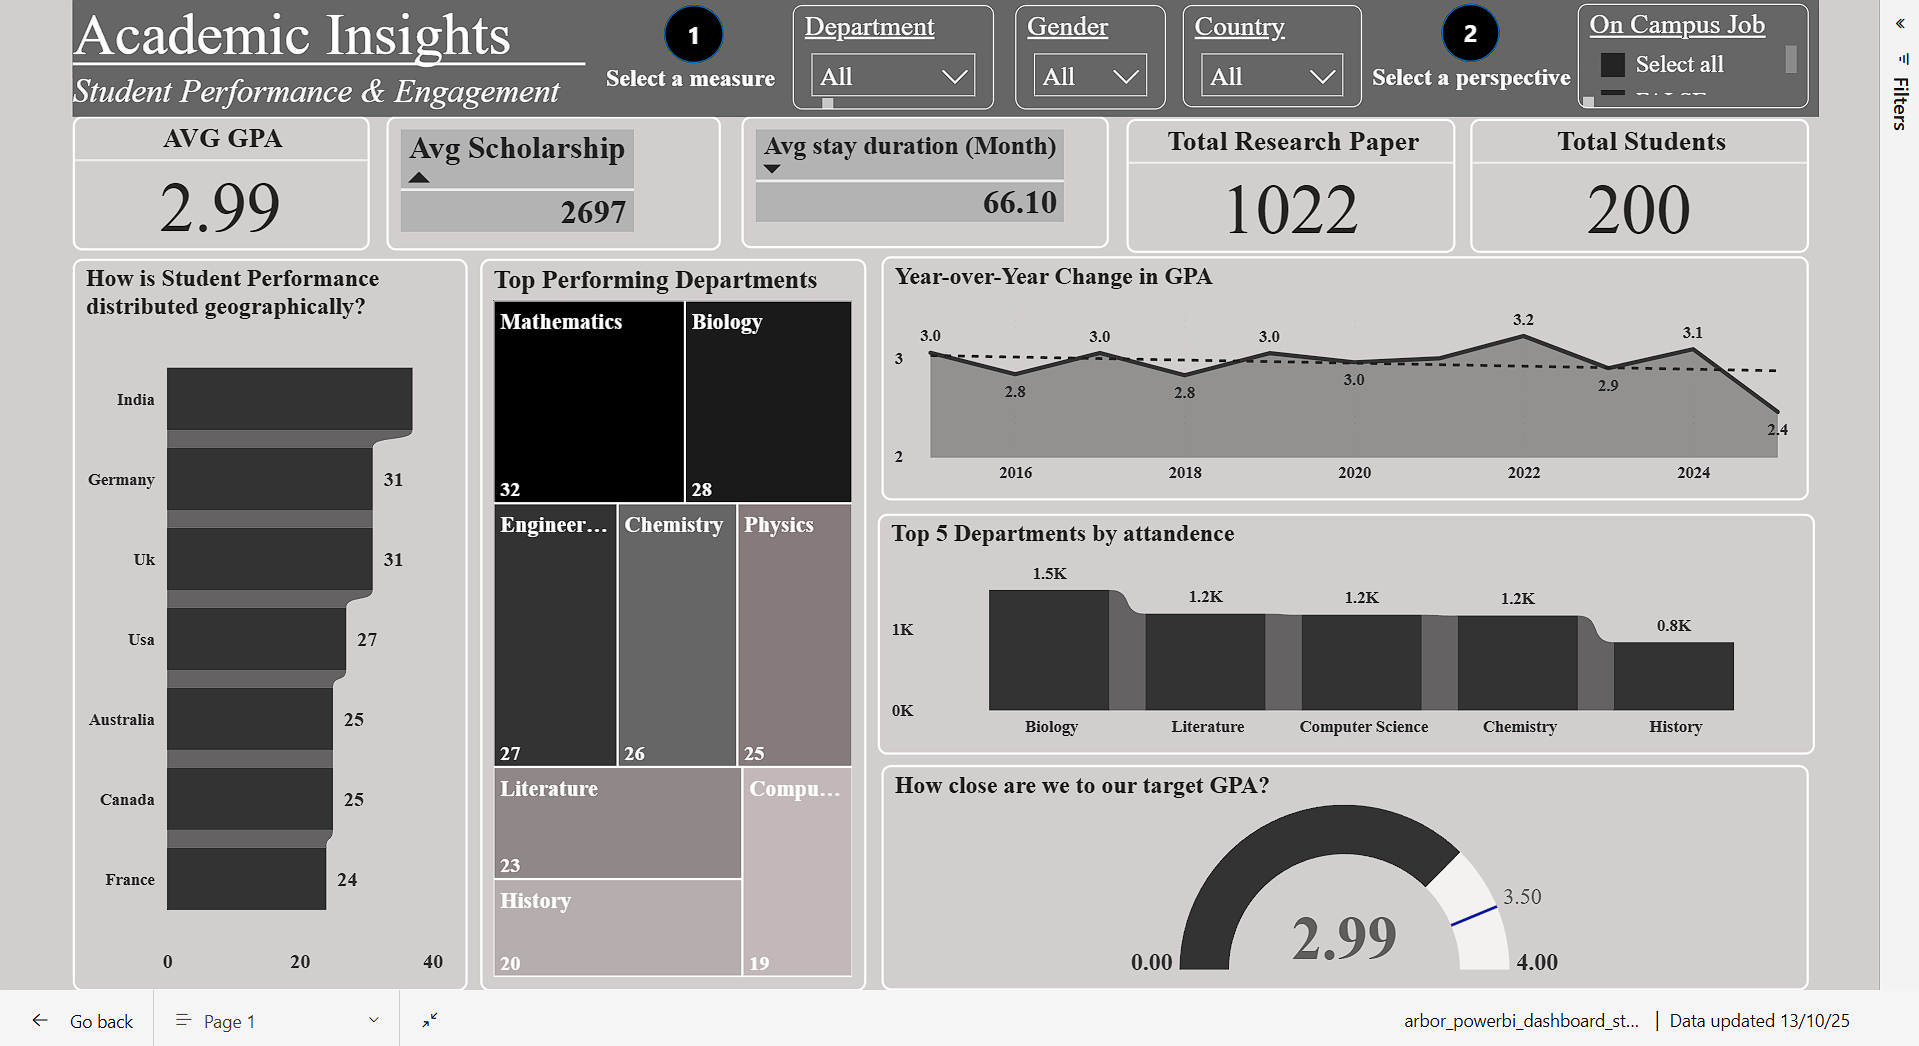

What the dashboard file says about the page in this screenshot:
{"tool":"powerbi","page":{"name":"Student Performance Dashboard","canvas":[1280,720],"ordinal":0},"visuals":[{"type":"card","title":"Total Students","fields":{"Values":["students_data_(1)(1).Total Students"]},"box":[1026.8,86.3,246.3,97.4],"z":0},{"type":"card","title":"AVG GPA","fields":{"Values":["students_data_(1)(1).Avg GPA"]},"box":[9.7,84.9,215.7,97.4],"z":1000},{"type":"card","title":"Total Research Paper","fields":{"Values":["students_data_(1)(1).Total Research Papers"]},"box":[776.3,86.3,239.3,97.4],"z":2000},{"type":"tableEx","title":"Avg Scholarship","fields":{"Values":["students_data_(1)(1).Avg Scholarship"]},"box":[237.9,84.9,243.5,97.4],"z":3000},{"type":"tableEx","fields":{"Values":["students_data_(1)(1).Avg stay duration"]},"box":[496.7,84.9,267.1,96],"z":4000},{"type":"shape","box":[10.1,15.9,353.5,79.4],"z":5000},{"type":"shape","title":"Academic Insights","box":[10,0,1270.1,84.6],"z":6000},{"type":"shape","box":[9.7,8.3,372.9,76.5],"z":7000},{"type":"shape","title":"1","box":[440.4,3.7,43.5,42.3],"z":8000},{"type":"shape","title":"1","box":[1005.1,2.5,42.3,42.3],"z":9000},{"type":"textbox","title":"Select a measure","box":[393.1,47.3,175.4,37.3],"z":10000},{"type":"slicer","title":"Department","fields":{"Values":["students_data_(1)(1).Department"]},"box":[533.7,3.7,146.8,75.9],"z":11000},{"type":"slicer","title":"Gender","fields":{"Values":["students_data_(1)(1).Gender"]},"box":[695.4,3.7,109.5,75.9],"z":12000},{"type":"slicer","title":"Country","fields":{"Values":["students_data_(1)(1).Country"]},"box":[817.3,3.7,130.6,74.6],"z":13000},{"type":"textbox","title":"Select a perspective","box":[950.4,46,171.7,37.3],"z":14000},{"type":"slicer","title":"On Campus Job","fields":{"Values":["students_data_(1)(1).OnCampusJobFlag"]},"box":[1104.6,2.5,167.9,75.9],"z":15000},{"type":"barChart","title":"How is Student Performance distributed geographically?","fields":{"Category":["students_data_(1)(1).Country"],"Y":["CountNonNull(students_data_(1)(1).StudentID)"]},"box":[10,187.8,287.4,532.4],"z":16000},{"type":"treemap","title":"Top Performing Departments","fields":{"Group":["students_data_(1)(1).Department"],"Values":["students_data_(1)(1).Total Students"]},"box":[306,187.8,281.1,532.4],"z":17000},{"type":"lineChart","title":"Year-over-Year Change in GPA","fields":{"Category":["students_data_(1)(1).JoinYear"],"Y":["students_data_(1)(1).Avg GPA"]},"box":[598.3,186.6,674.2,177.9],"z":18000},{"type":"gauge","title":"How close are we to our target GPA?","fields":{"Y":["students_data_(1)(1).Avg GPA"],"TargetValue":["students_data_(1)(1).Target GPA"]},"box":[598.3,556,674.2,164.2],"z":19000},{"type":"columnChart","title":"Top 5 Departments by attandence","fields":{"Category":["students_data_(1)(1).Department"],"Y":["Sum(students_data_(1)(1).Attendance)"]},"box":[595.9,373.2,681.7,175.4],"z":20000}]}

Visuals, with their boxes on the page's 1280x720 design canvas (x1, y1, x2, y2). These are canvas units, not pixel positions in the 1919x1046 screenshot, which may show the page scaled, cropped or inside an application window:
"Total Students" card: left=1027, top=86, right=1273, bottom=184
"AVG GPA" card: left=10, top=85, right=225, bottom=182
"Total Research Paper" card: left=776, top=86, right=1016, bottom=184
"Avg Scholarship" tableEx: left=238, top=85, right=481, bottom=182
tableEx - students_data_(1)(1).Avg stay duration: left=497, top=85, right=764, bottom=181
shape: left=10, top=16, right=364, bottom=95
"Academic Insights" shape: left=10, top=0, right=1280, bottom=85
shape: left=10, top=8, right=383, bottom=85
"1" shape: left=440, top=4, right=484, bottom=46
"1" shape: left=1005, top=2, right=1047, bottom=45
"Select a measure" textbox: left=393, top=47, right=568, bottom=85
"Department" slicer: left=534, top=4, right=680, bottom=80
"Gender" slicer: left=695, top=4, right=805, bottom=80
"Country" slicer: left=817, top=4, right=948, bottom=78
"Select a perspective" textbox: left=950, top=46, right=1122, bottom=83
"On Campus Job" slicer: left=1105, top=2, right=1272, bottom=78
"How is Student Performance distributed geographically?" barChart: left=10, top=188, right=297, bottom=720
"Top Performing Departments" treemap: left=306, top=188, right=587, bottom=720
"Year-over-Year Change in GPA" lineChart: left=598, top=187, right=1272, bottom=364
"How close are we to our target GPA?" gauge: left=598, top=556, right=1272, bottom=720
"Top 5 Departments by attandence" columnChart: left=596, top=373, right=1278, bottom=549
